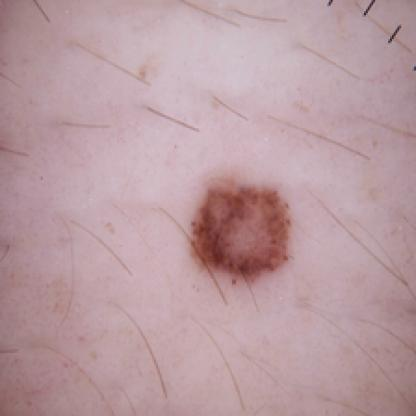benign: (191, 180, 303, 288)
